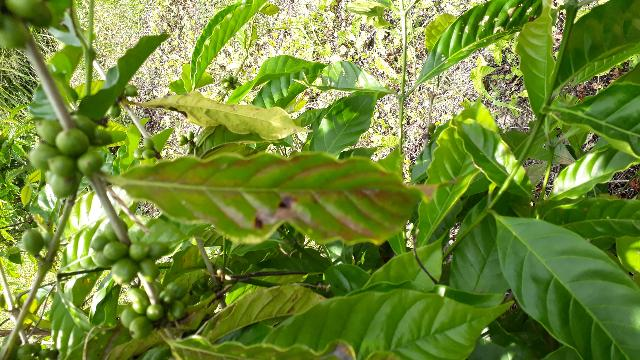red_spider_mite: (106, 150, 463, 246)
